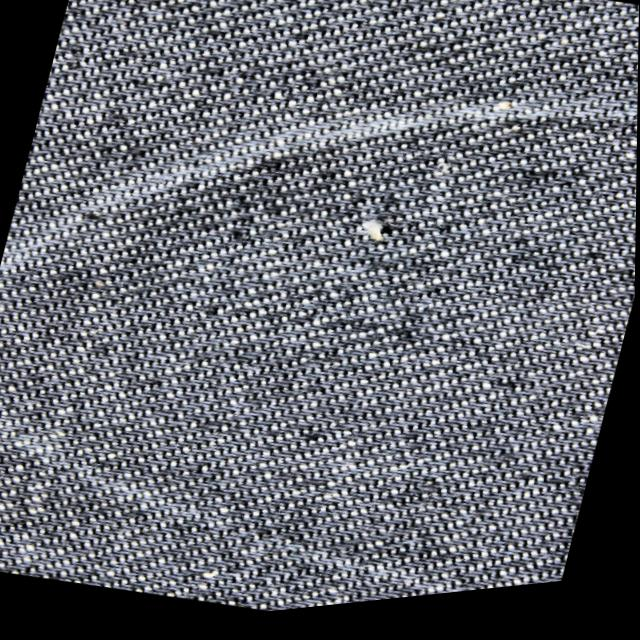Hole: (335, 203, 418, 270)
